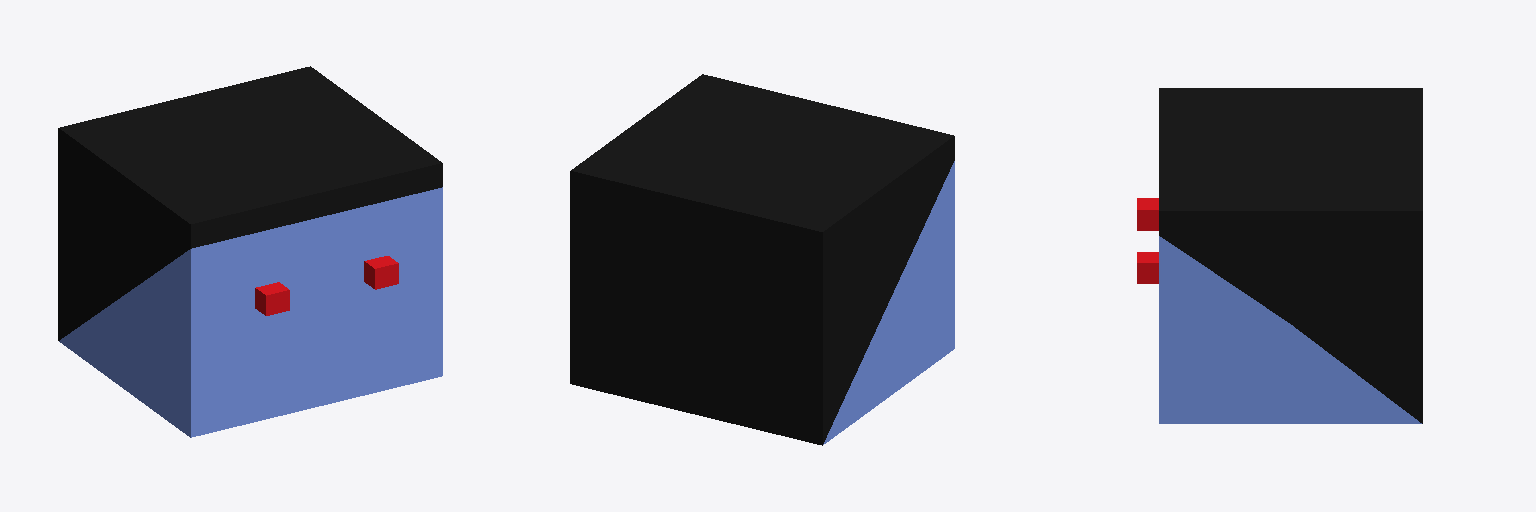
3 views of the same model, side by side, from view 1: azimuth 30°, elevation 25°; view 2: azimuth 150°, elevation 25°; view 3: azimuth 270°, elevation 25° (orthographic).
Visible parts, largest first — view 1: cube1, cube8, cube6; view 2: cube1; view 3: cube1, cube6, cube8.
Boxes of the visible parts, box(x1,y1,x2,y2) form: cube1: box(58, 66, 442, 437); cube8: box(364, 256, 398, 289); cube6: box(255, 282, 289, 315); cube1: box(570, 74, 954, 445); cube1: box(1159, 88, 1422, 423); cube6: box(1137, 198, 1158, 230); cube8: box(1137, 252, 1158, 283).
Size of the model in its own units: 21.61 by 17.48 by 21.19.
Materials: 3 (3 with a texture image).